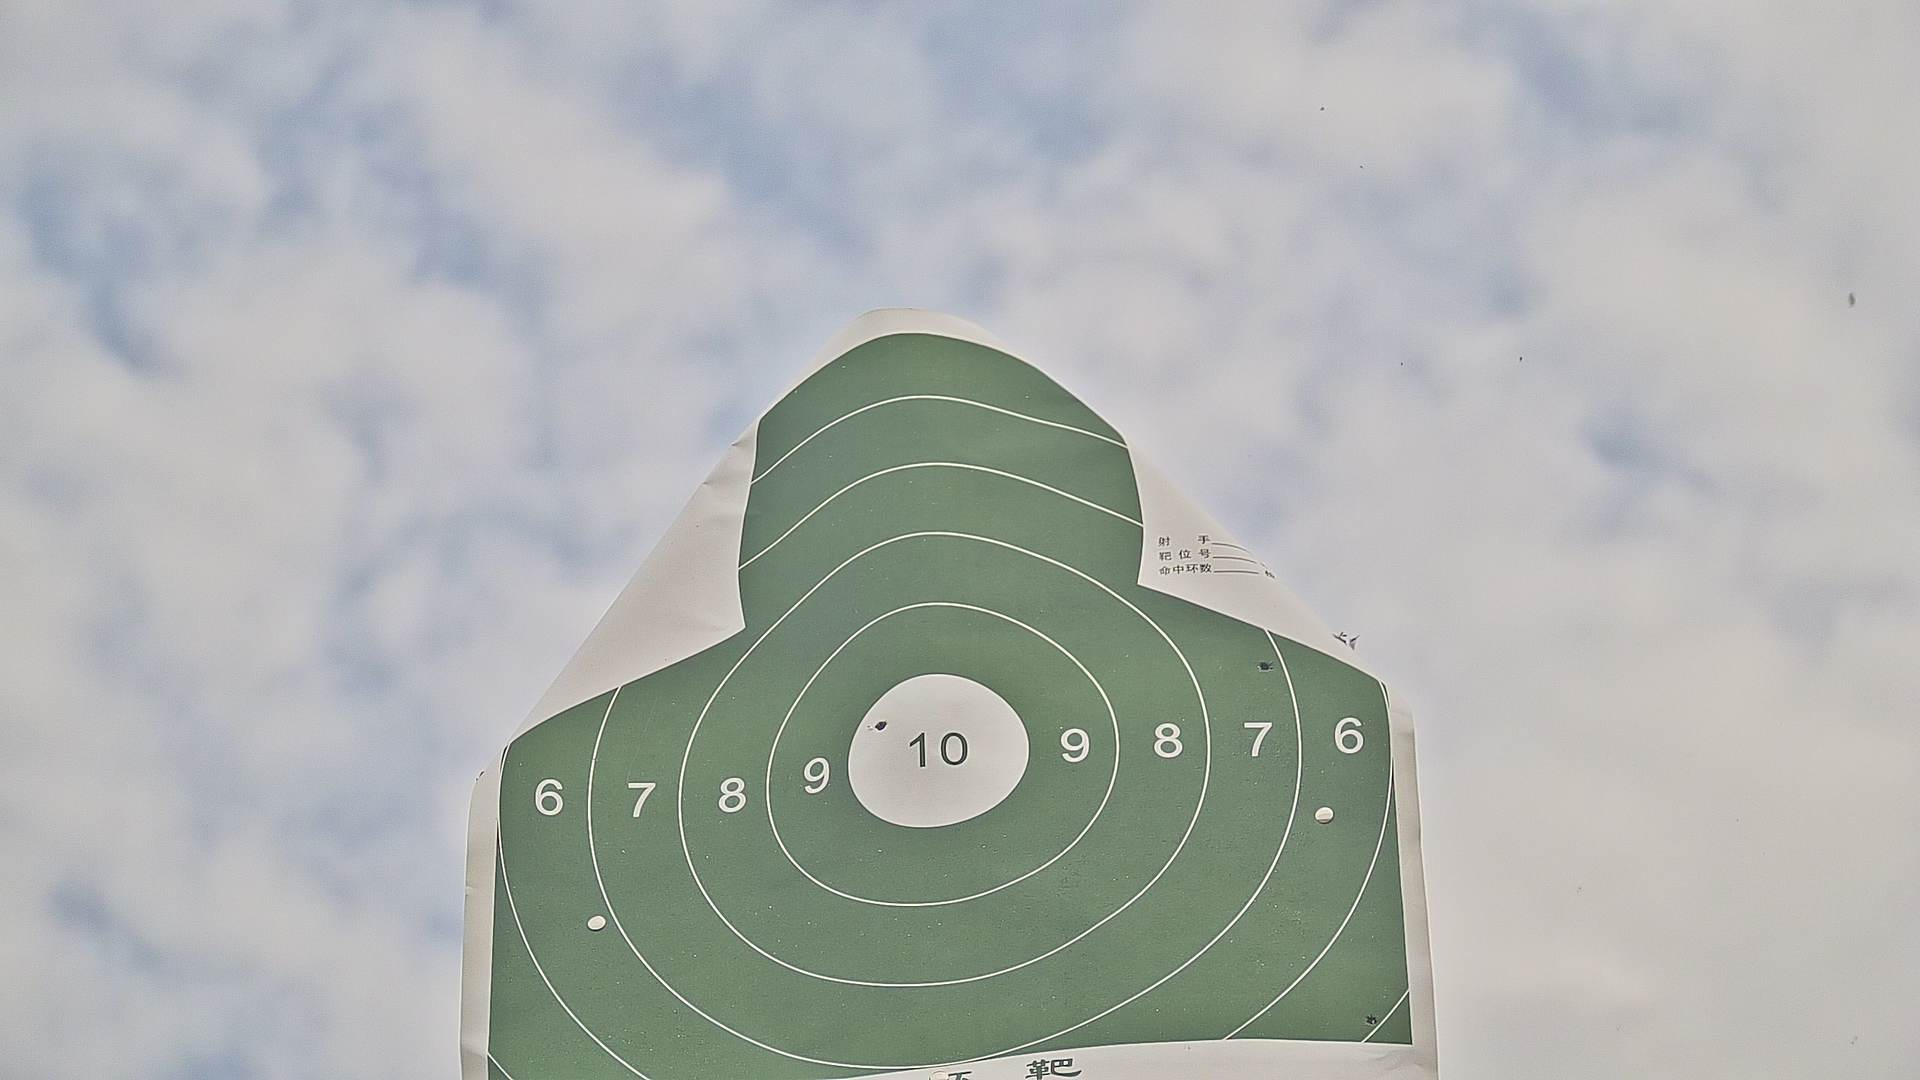hole: (1364, 1015, 1379, 1026), (874, 719, 887, 731), (1259, 659, 1269, 673)
kernel: (930, 748, 935, 750)
target: (491, 334, 1414, 1080)
ten: (843, 673, 1033, 833)
